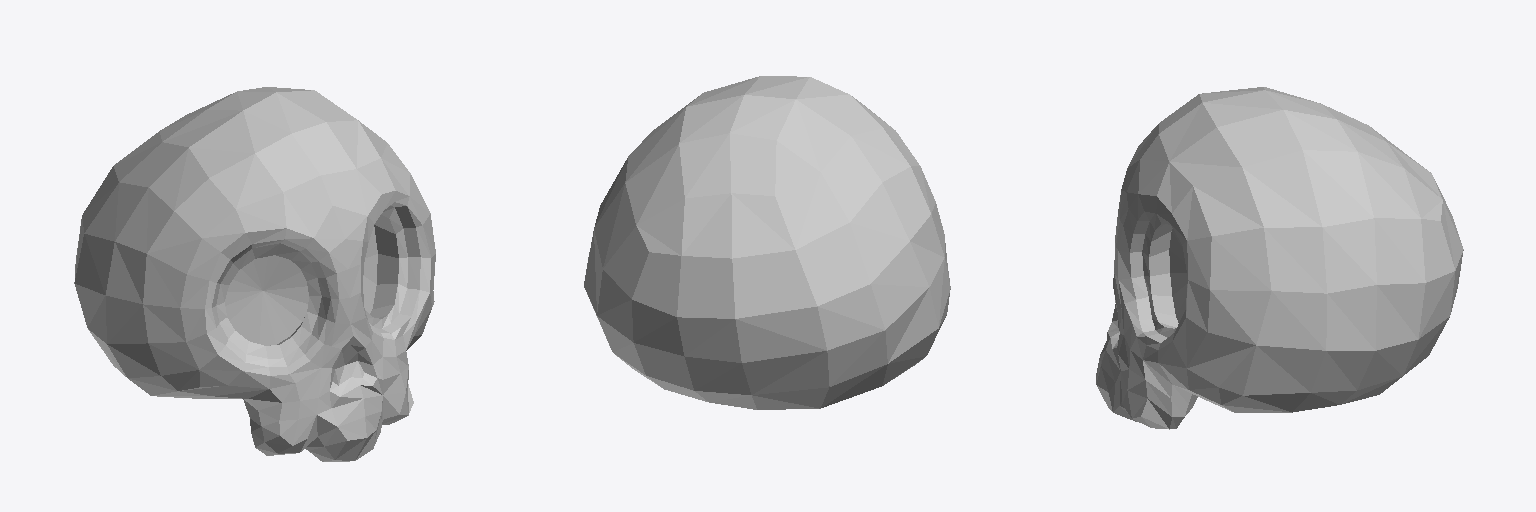
Rendered from Skeleton_Head.obj.
3 renders of one model, left to right at view 1: azimuth 30°, elevation 25°; view 2: azimuth 150°, elevation 25°; view 3: azimuth 270°, elevation 25°, orthographic.
Visible parts, largest first — view 1: Skeleton_Head; view 2: Skeleton_Head; view 3: Skeleton_Head.
Part boxes in pixels (left/top/right/bottom): Skeleton_Head: left=74, top=87, right=435, bottom=461; Skeleton_Head: left=584, top=76, right=950, bottom=409; Skeleton_Head: left=1096, top=87, right=1463, bottom=429.
Size of the model in its own units: 1.42 by 1.33 by 1.41.